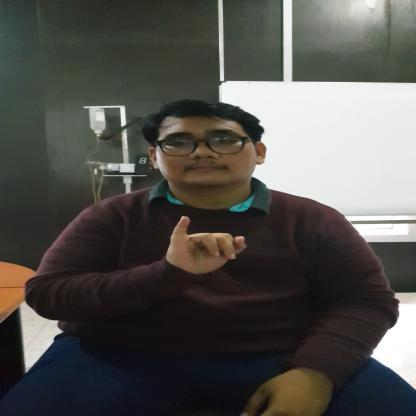I: (160, 214, 250, 276)
